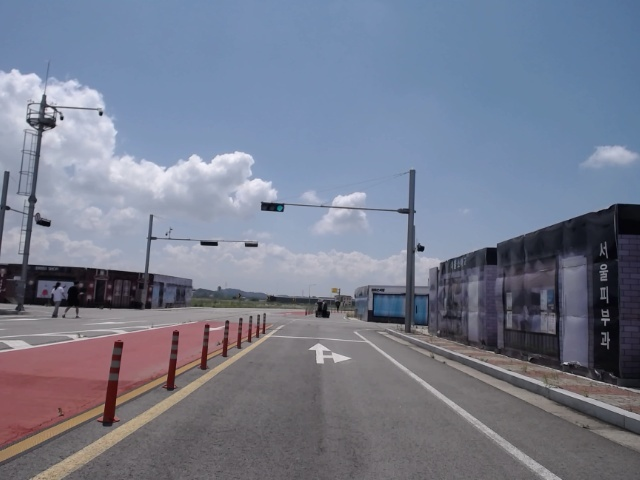green_3: (261, 203, 283, 212)
